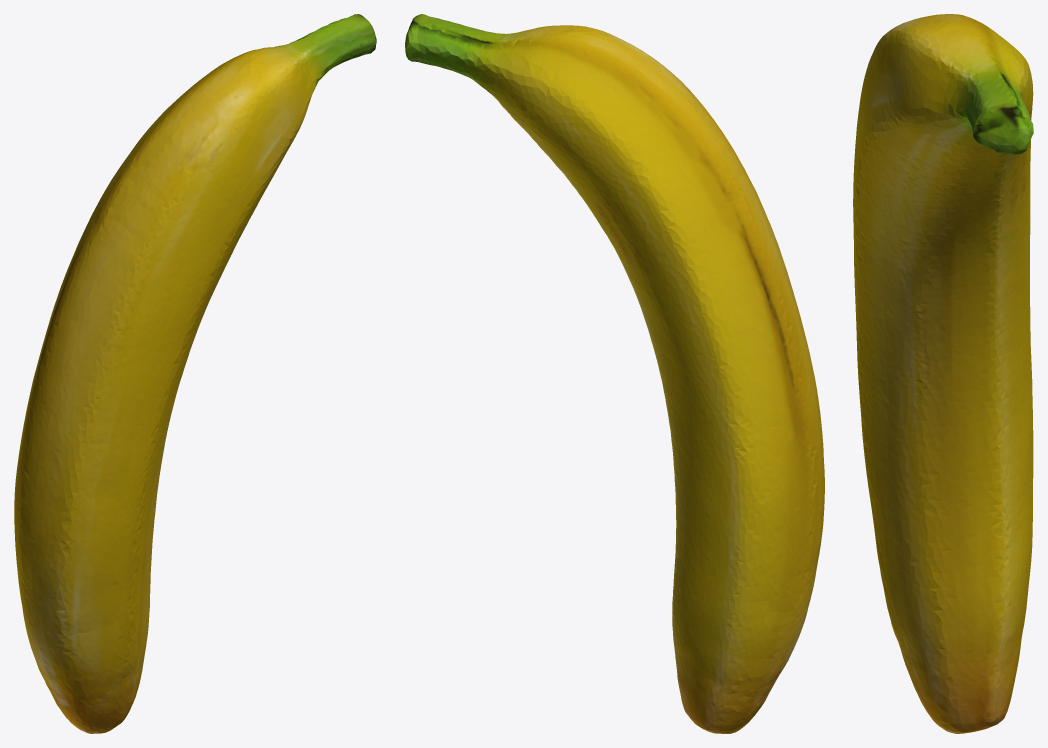
3 renders of one model, left to right at view 1: azimuth 30°, elevation 25°; view 2: azimuth 150°, elevation 25°; view 3: azimuth 270°, elevation 25°, orthographic. The views are drawn at different scales.
Visible parts, largest first — view 1: tracked_item; view 2: tracked_item; view 3: tracked_item.
Boxes of the visible parts, x1,y1,x2,y2 form: tracked_item: (14,14,376,733); tracked_item: (405,14,824,733); tracked_item: (853,14,1033,733).
Size of the model in its own units: 0.1089 by 0.1784 by 0.0367.
Materials: 1 (1 with a texture image).
